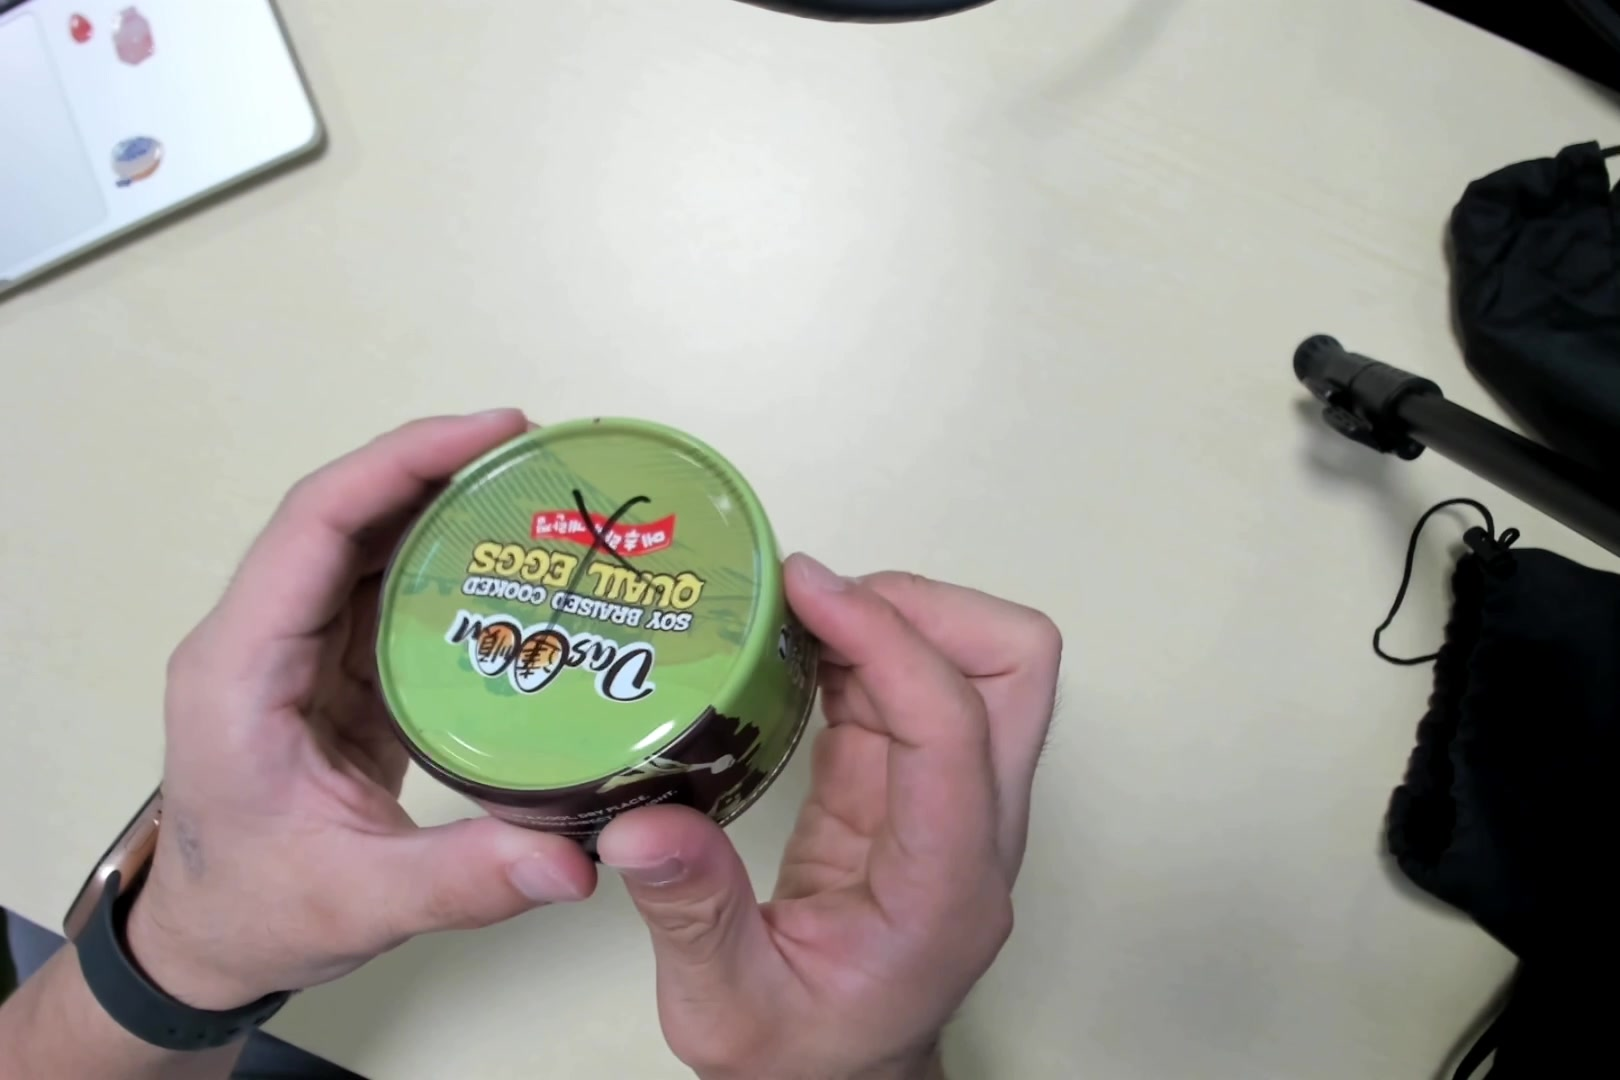CannedPorkLunchronMeat_100-199g_NonHalal_NonHealthy: (382, 423, 815, 855)
